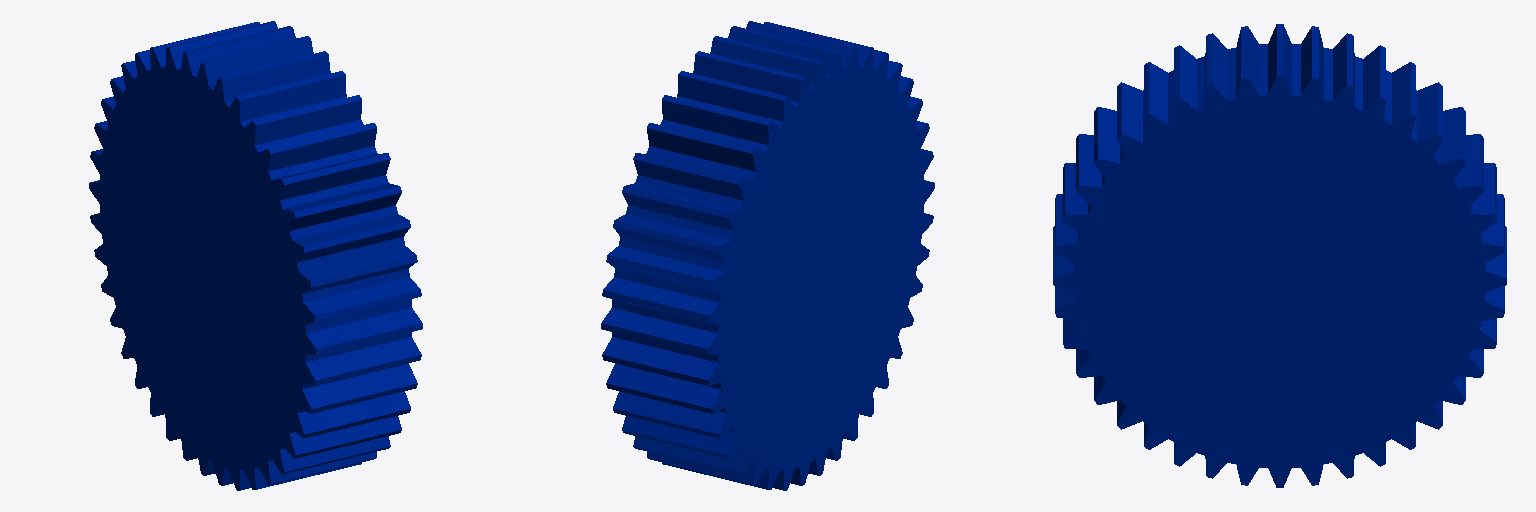
The model's file is nut_gear.obj.
The picture shows the model from 3 angles: view 1: azimuth 30°, elevation 25°; view 2: azimuth 150°, elevation 25°; view 3: azimuth 270°, elevation 25°; orthographic projection.
Visible parts, largest first — view 1: Spur_Gear; view 2: Spur_Gear; view 3: Spur_Gear.
Boxes of the visible parts, x1=… form: Spur_Gear: x1=89, y1=21, x2=422, y2=490; Spur_Gear: x1=601, y1=21, x2=934, y2=490; Spur_Gear: x1=1053, y1=24, x2=1506, y2=487.
Size of the model in its own units: 0.003 by 0.0111 by 0.0111.